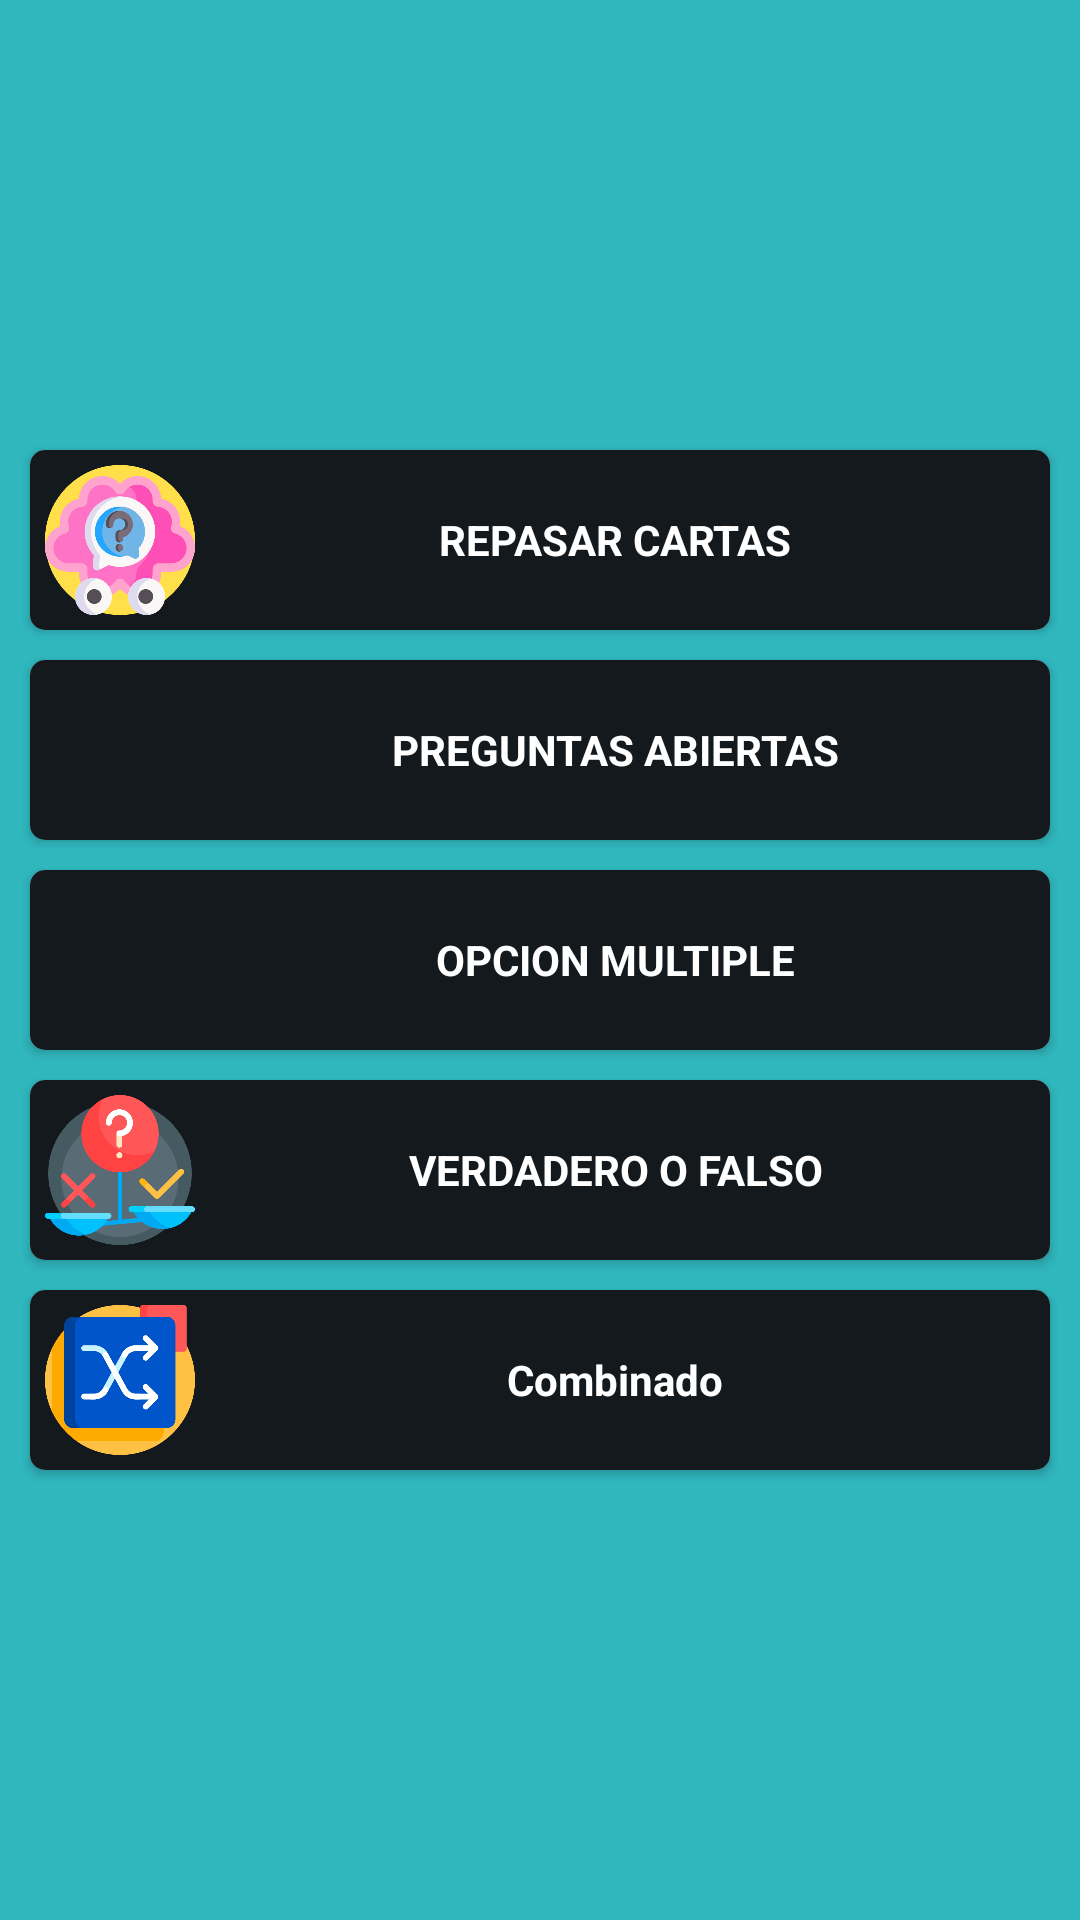

Point at icon controls on the screen. Image size 1080px×1920px, points as [x,y].
aleatorio: [120,1380]
ver falso: [120,1170]
